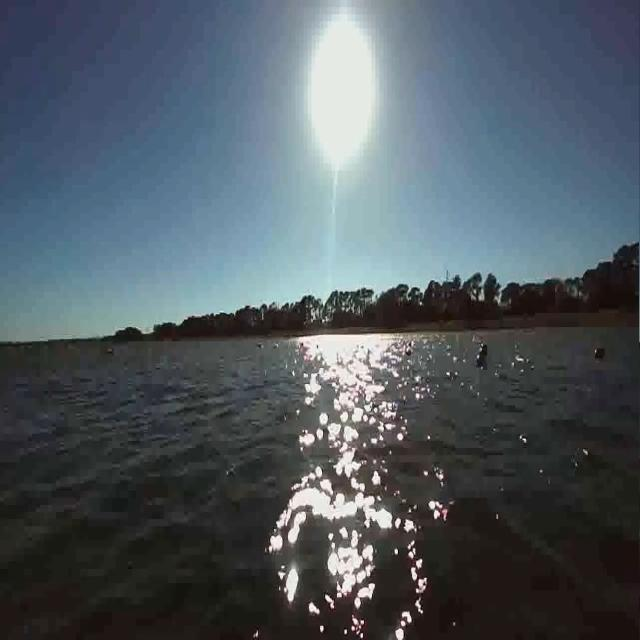red-buoy: (596, 346, 606, 361)
